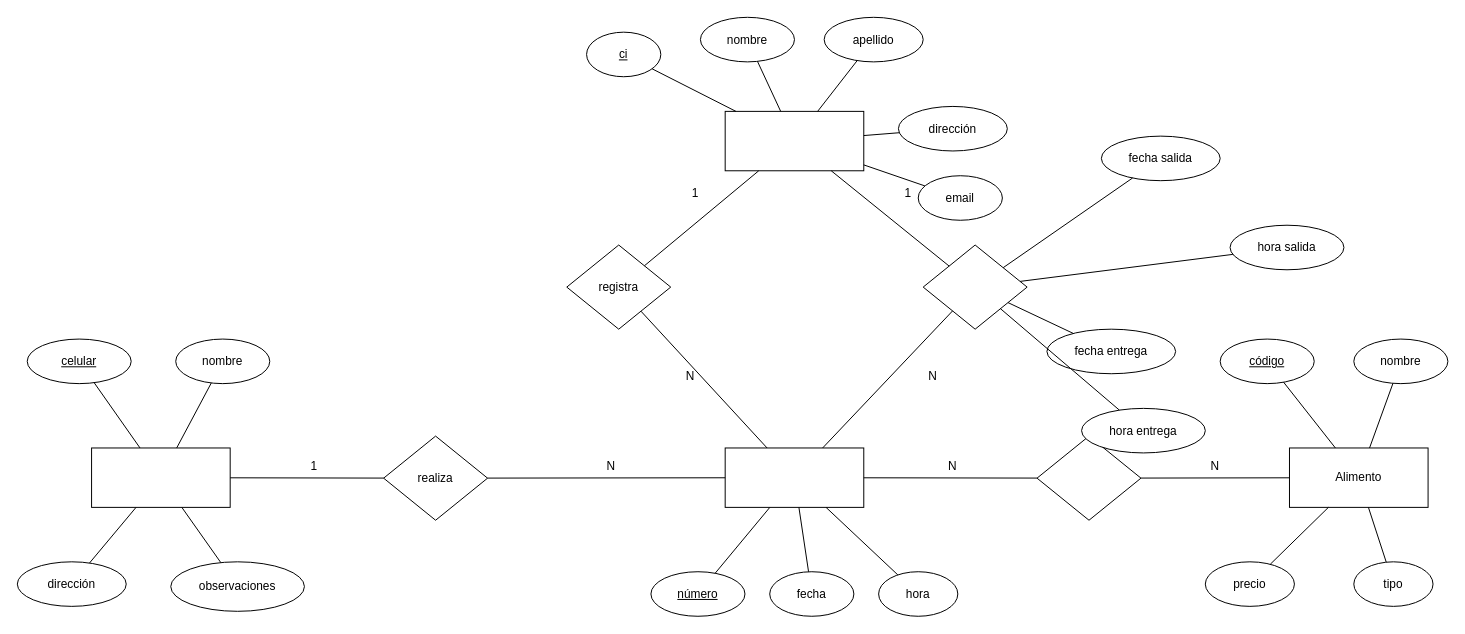
Some shapes in this 1465 by 634 pixel diagram are drawn without their labels. Here are the shapes that lost their labels. From the top down, the centre of each, then its label:
At [794,140]: "Empleado".
At [974,286]: "entrega".
At [160,477]: "Cliente".
At [794,477]: "Pedido".
At [1088,477]: "incluye".
